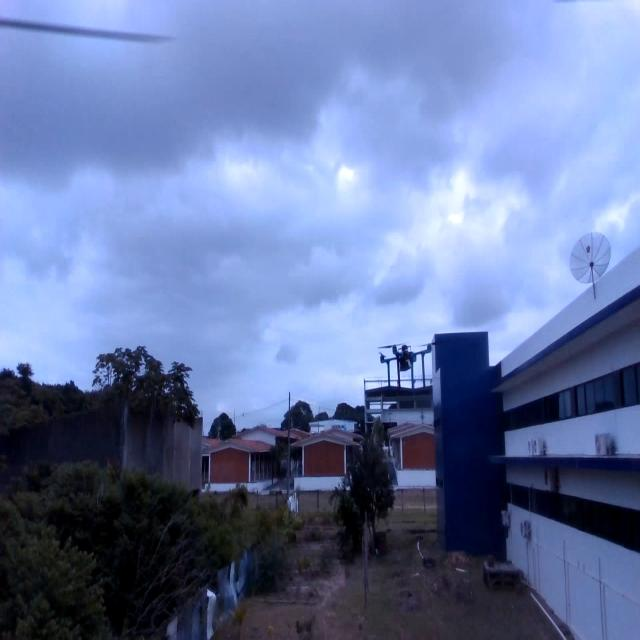-uav-: (372, 324, 438, 406)
